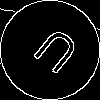U: (25, 25, 82, 83)
